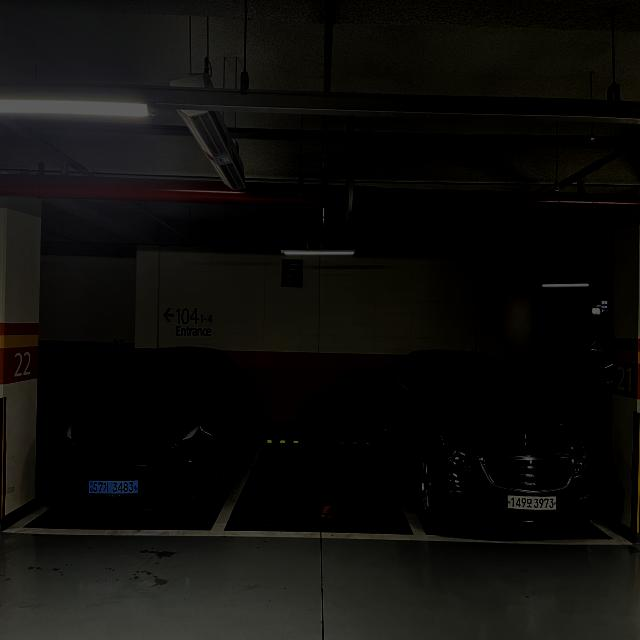empty: (213, 427, 427, 539)
occupied: (394, 336, 588, 552), (50, 342, 238, 540)
